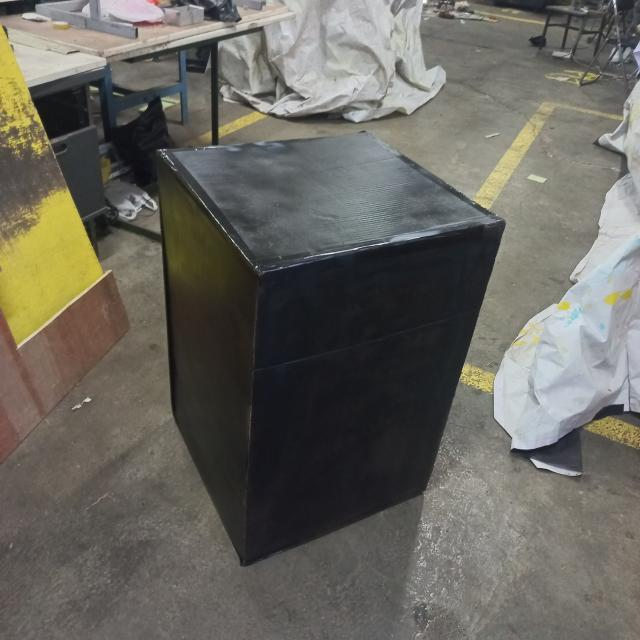obstacle: (154, 124, 506, 572)
